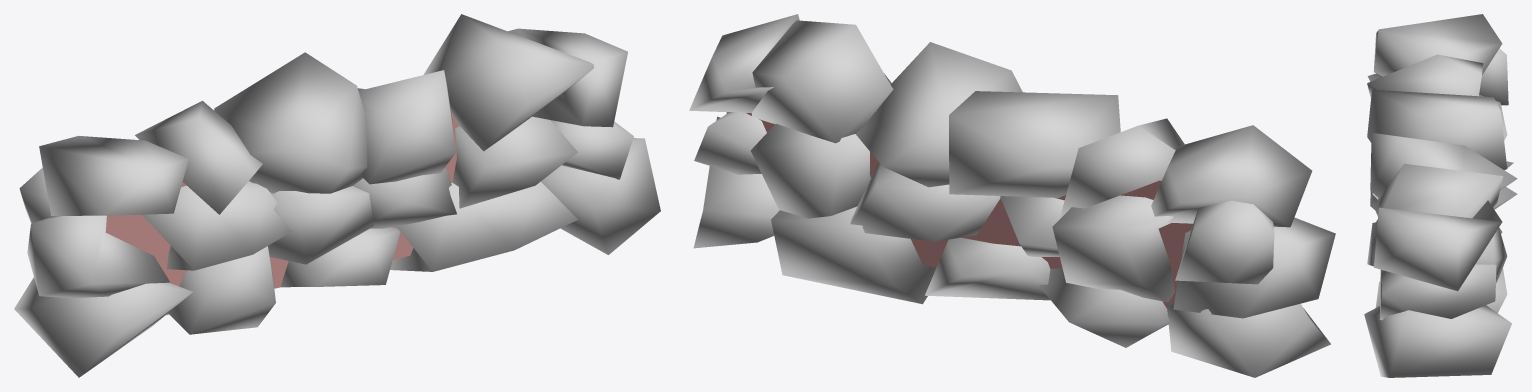
File: stoneWallSegment.glb
3 views of the same model, side by side, from view 1: azimuth 30°, elevation 25°; view 2: azimuth 150°, elevation 25°; view 3: azimuth 270°, elevation 25° (orthographic). The views are drawn at different scales.
Parts seen in each view (by area): view 1: stoneWallSegment, stoneWallMortar; view 2: stoneWallSegment, stoneWallMortar; view 3: stoneWallSegment.
Boxes of the visible parts, box(x1,y1,x2,y2) form: stoneWallSegment: box(14, 14, 660, 377); stoneWallMortar: box(105, 110, 459, 315); stoneWallSegment: box(689, 14, 1335, 377); stoneWallMortar: box(726, 111, 1192, 324); stoneWallSegment: box(1364, 14, 1517, 377).
Size of the model in its own units: 2.3 by 0.8341 by 0.6123.
